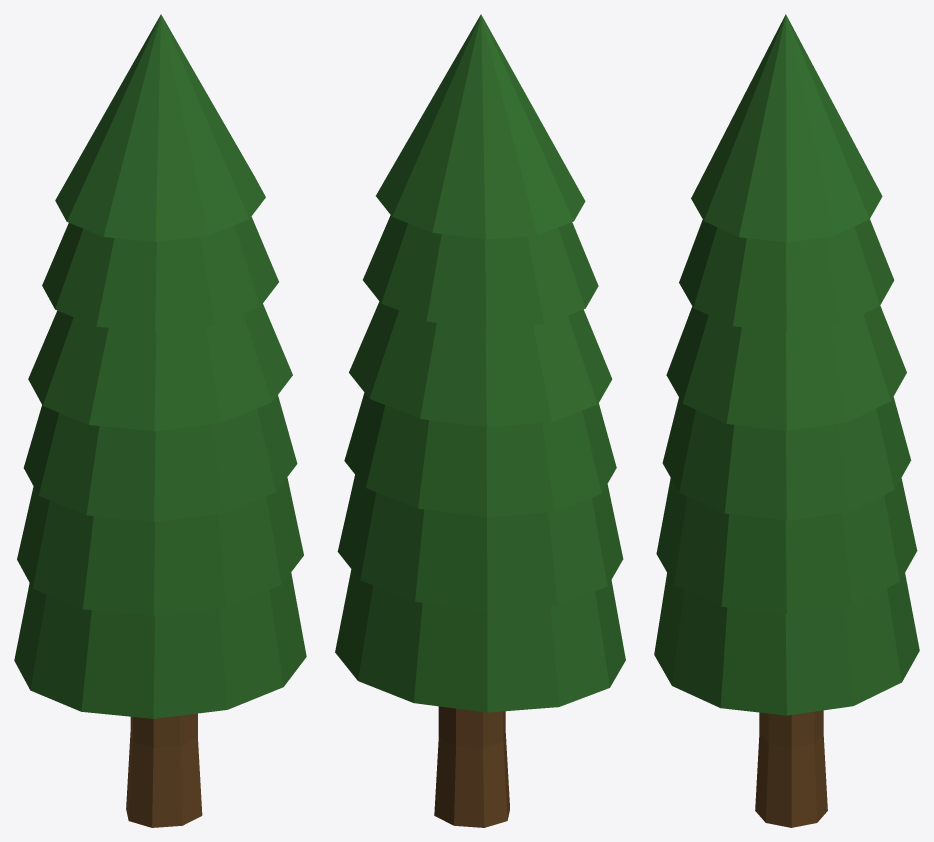
The model's file is TreeUpdate.fbx.
3 renders of one model, left to right at view 1: azimuth 30°, elevation 25°; view 2: azimuth 150°, elevation 25°; view 3: azimuth 270°, elevation 25°, orthographic.
Visible parts, largest first — view 1: Tree; view 2: Tree; view 3: Tree.
Part boxes in pixels (bbox=[...]): Tree: bbox=[14, 14, 306, 827]; Tree: bbox=[335, 14, 625, 827]; Tree: bbox=[654, 14, 919, 827].
Bounding box in the file's own units: 144 × 425 × 129.
